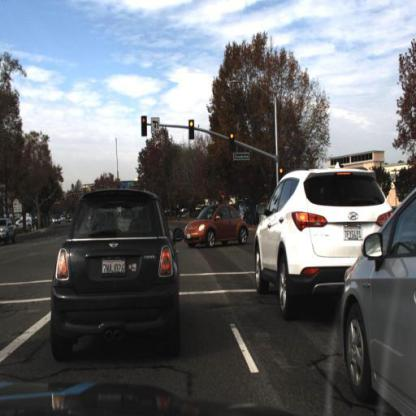car: (45, 179, 185, 369), (247, 157, 405, 316), (343, 165, 416, 416), (185, 204, 247, 253), (2, 209, 20, 254)
trafficLight-Red: (226, 128, 238, 159), (188, 116, 197, 141), (228, 131, 237, 155), (278, 164, 285, 182)
trafficLight-RedLeft: (141, 115, 149, 141)
